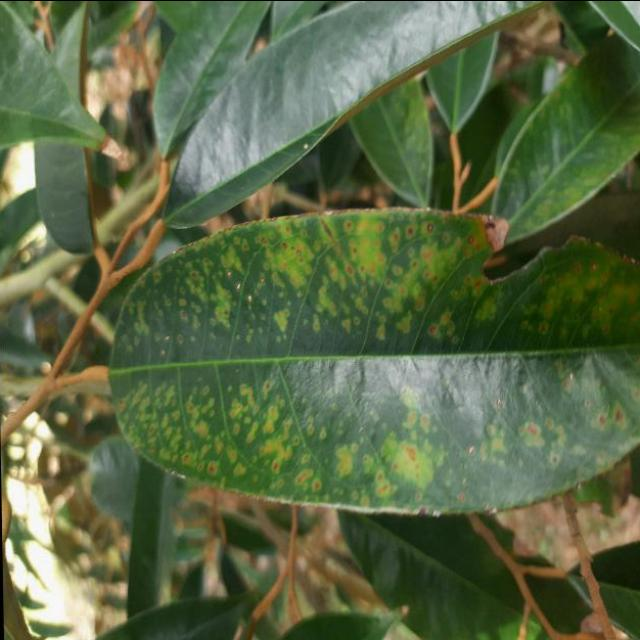Leaf Spot: (94, 180, 640, 528)
